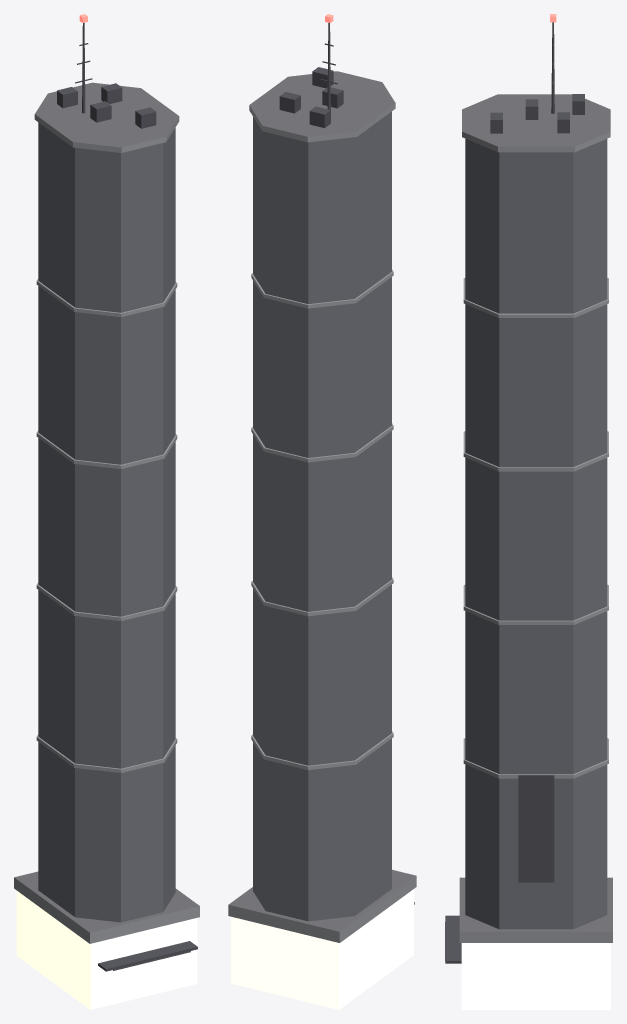
The model's file is r1012_oct.glb.
3 renders of one model, left to right at view 1: azimuth 30°, elevation 25°; view 2: azimuth 150°, elevation 25°; view 3: azimuth 270°, elevation 25°, orthographic.
Visible parts, largest first — view 1: r1012_oct; view 2: r1012_oct; view 3: r1012_oct.
Part boxes in pixels (x1,y1,x2,y2): r1012_oct: [14, 14, 199, 1009]; r1012_oct: [228, 14, 416, 1009]; r1012_oct: [445, 14, 612, 1009].
Bounding box in the file's own units: 10.3 × 85.17 × 13.49.
